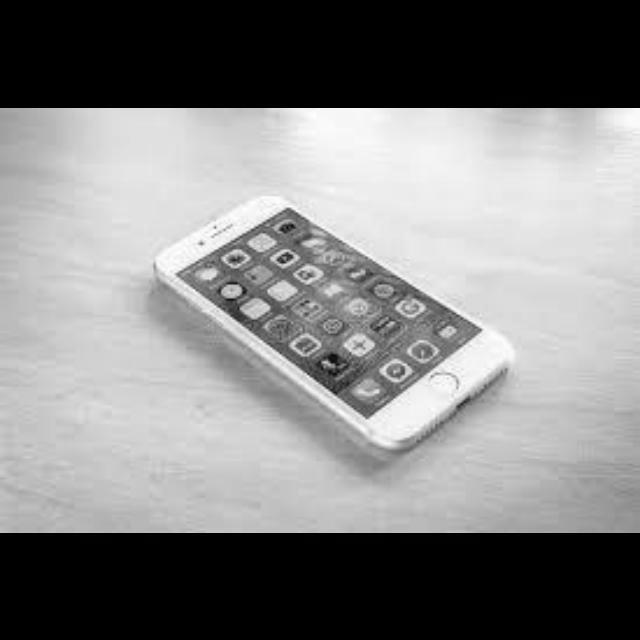fake: (154, 174, 540, 474)
